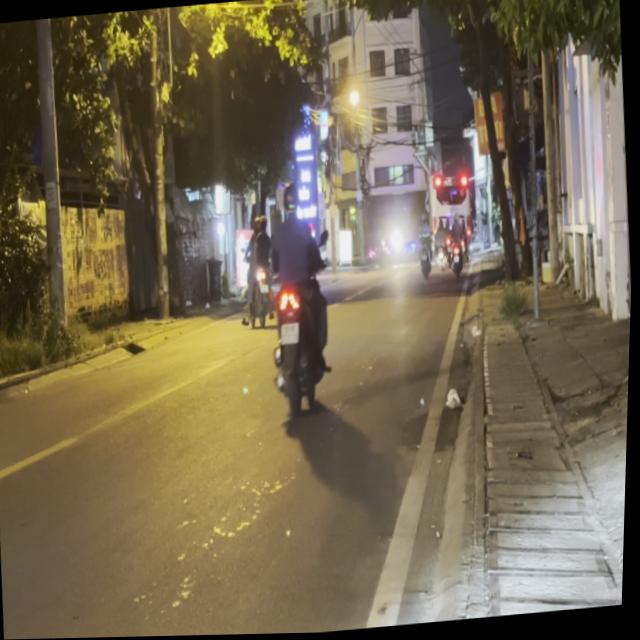helmet: (276, 179, 300, 218)
licenseplate: (258, 174, 340, 416)
nohelmet: (281, 323, 300, 344)
